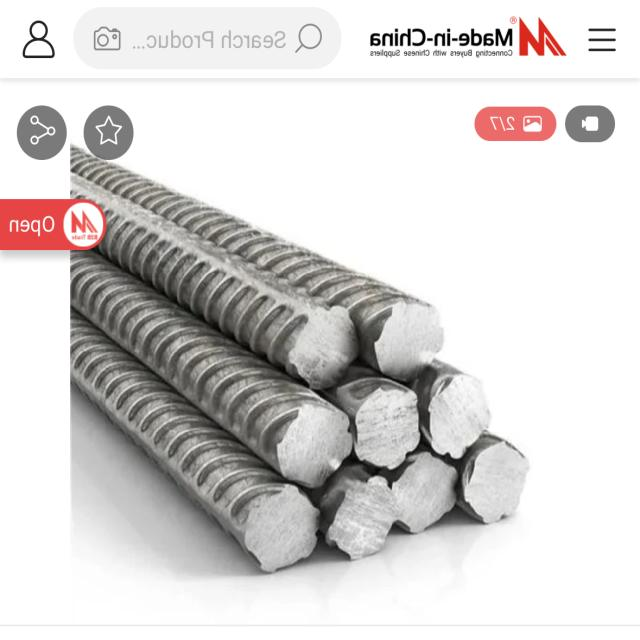Rebar: (238, 492, 324, 576), (385, 449, 463, 537), (276, 393, 351, 483), (349, 377, 425, 463), (372, 295, 444, 379), (455, 445, 531, 524), (288, 303, 354, 391), (420, 370, 488, 452), (328, 477, 395, 557)
